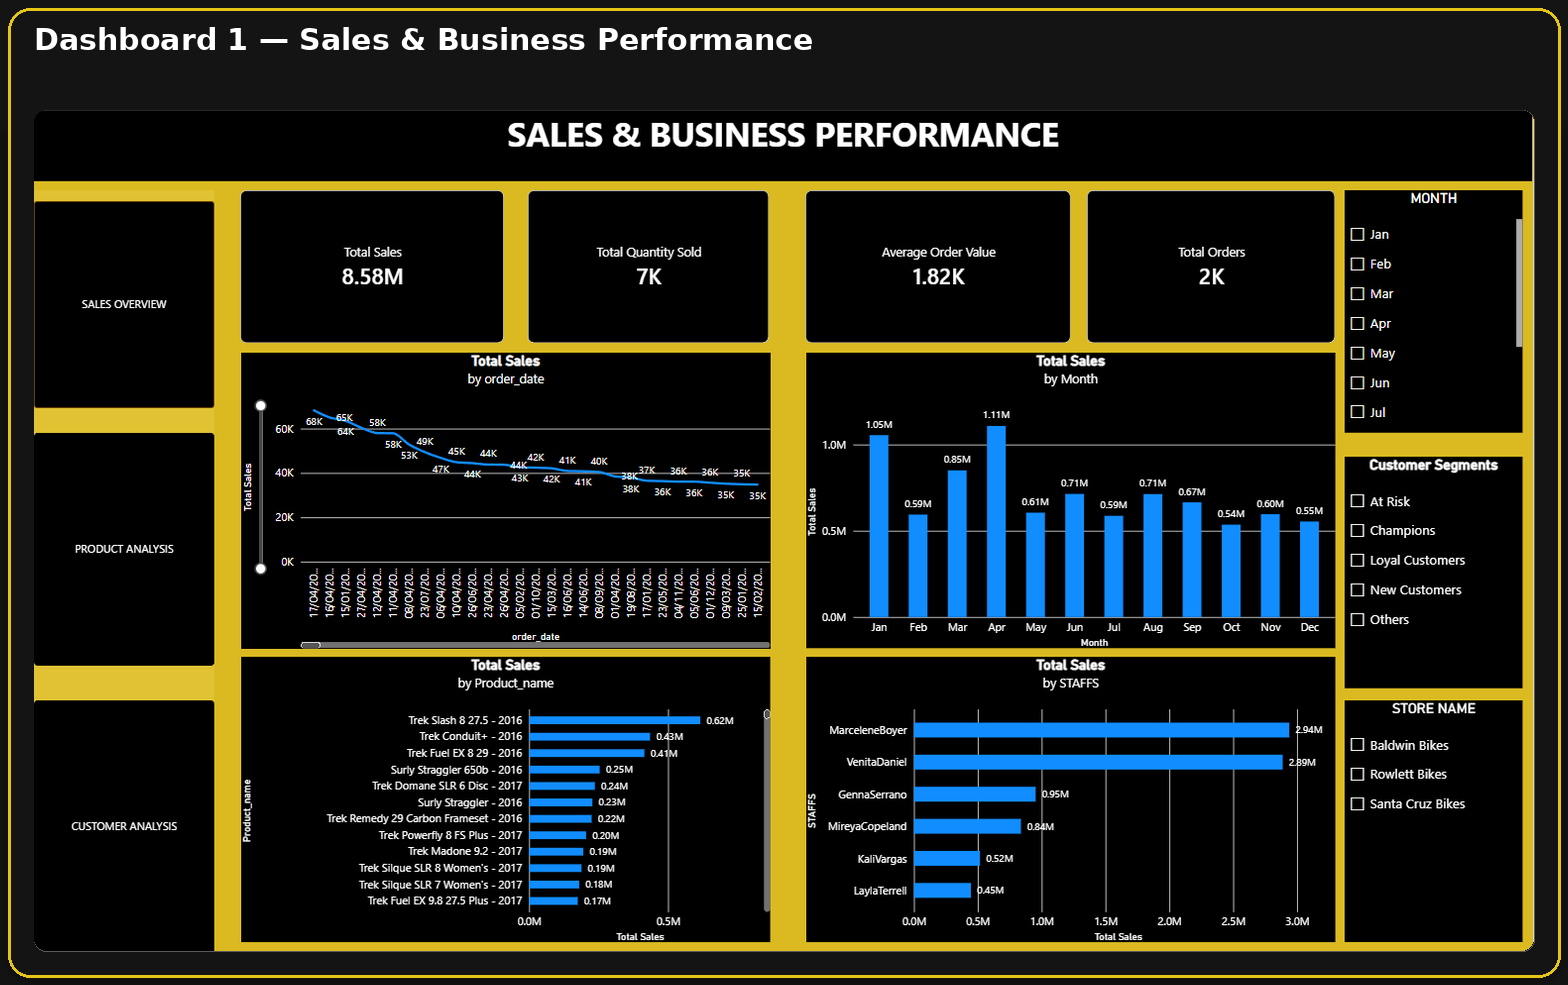

This screenshot's page, from the dashboard's own definition file:
{"tool":"powerbi","page":{"name":"Task 10 Dashboard","canvas":[1920,1080],"ordinal":7},"visuals":[{"type":"cardVisual","fields":{"Data":["salesdb orders.Total Orders"]},"box":[1349.8,101.8,318.5,196.4],"z":0},{"type":"cardVisual","fields":{"Data":["salesdb order_items.Total Sales"]},"box":[264.7,101.8,338.9,196.4],"z":1000},{"type":"cardVisual","title":"dd","fields":{"Data":["salesdb order_items.Total Quantity Sold"]},"box":[632.7,101.8,309.8,196.4],"z":2000},{"type":"cardVisual","fields":{"Data":["salesdb order_items.Average Order Value"]},"box":[989.1,101.8,340.4,196.4],"z":3000},{"type":"lineChart","fields":{"Category":["salesdb orders.order_date"],"Y":["salesdb order_items.Total Sales"]},"box":[265.2,310.5,678,379.1],"z":4000},{"type":"clusteredColumnChart","fields":{"Y":["salesdb order_items.Total Sales"],"Category":["salesdb orders.Month Name 2"]},"box":[989.8,310.5,678,379.1],"z":5000},{"type":"clusteredBarChart","fields":{"Category":["salesdb products.Product_name"],"Y":["salesdb order_items.Total Sales"]},"box":[265.2,699.9,678,366.1],"z":6000},{"type":"clusteredBarChart","fields":{"Category":["salesdb staffs.Full name"],"Y":["salesdb order_items.Total Sales"]},"box":[989.8,699.9,678,366.1],"z":7000},{"type":"slicer","title":"STORE NAME","fields":{"Values":["salesdb stores.store_name"]},"box":[1680,756.4,228.4,309.8],"z":8000},{"type":"slicer","title":"Customer Segments","fields":{"Values":["salesdb customer_segments.segment"]},"box":[1680,443.6,228.4,296.7],"z":9000},{"type":"slicer","title":"MONTH","fields":{"Values":["salesdb orders.Month Name 2"]},"box":[1680,101.8,228.4,311.3],"z":10000},{"type":"textbox","box":[0,0,1920,90],"z":11000},{"type":"shape","box":[0,101.8,231.3,978.9],"z":12000},{"type":"actionButton","box":[0,115.6,231.2,265.6],"z":13000},{"type":"actionButton","box":[0,412.9,231.2,298.6],"z":14000},{"type":"actionButton","box":[0,756,231.2,324],"z":15000}]}

Visuals, with their boxes in screenshot pixels (x1, y1, x2, y2):
cardVisual - salesdb orders.Total Orders: {"x1": 1081, "y1": 189, "x2": 1329, "y2": 342}
cardVisual - salesdb order_items.Total Sales: {"x1": 238, "y1": 189, "x2": 502, "y2": 342}
"dd" cardVisual: {"x1": 524, "y1": 189, "x2": 765, "y2": 342}
cardVisual - salesdb order_items.Average Order Value: {"x1": 801, "y1": 189, "x2": 1065, "y2": 342}
lineChart - salesdb orders.order_date x salesdb order_items.Total Sales: {"x1": 239, "y1": 351, "x2": 765, "y2": 646}
clusteredColumnChart - salesdb order_items.Total Sales x salesdb orders.Month Name 2: {"x1": 802, "y1": 351, "x2": 1328, "y2": 646}
clusteredBarChart - salesdb products.Product_name x salesdb order_items.Total Sales: {"x1": 239, "y1": 654, "x2": 765, "y2": 938}
clusteredBarChart - salesdb staffs.Full name x salesdb order_items.Total Sales: {"x1": 802, "y1": 654, "x2": 1328, "y2": 938}
"STORE NAME" slicer: {"x1": 1338, "y1": 698, "x2": 1515, "y2": 939}
"Customer Segments" slicer: {"x1": 1338, "y1": 455, "x2": 1515, "y2": 685}
"MONTH" slicer: {"x1": 1338, "y1": 189, "x2": 1515, "y2": 431}
textbox: {"x1": 33, "y1": 110, "x2": 1524, "y2": 180}
shape: {"x1": 33, "y1": 189, "x2": 212, "y2": 950}
actionButton: {"x1": 33, "y1": 200, "x2": 212, "y2": 406}
actionButton: {"x1": 33, "y1": 431, "x2": 212, "y2": 663}
actionButton: {"x1": 33, "y1": 698, "x2": 212, "y2": 949}
